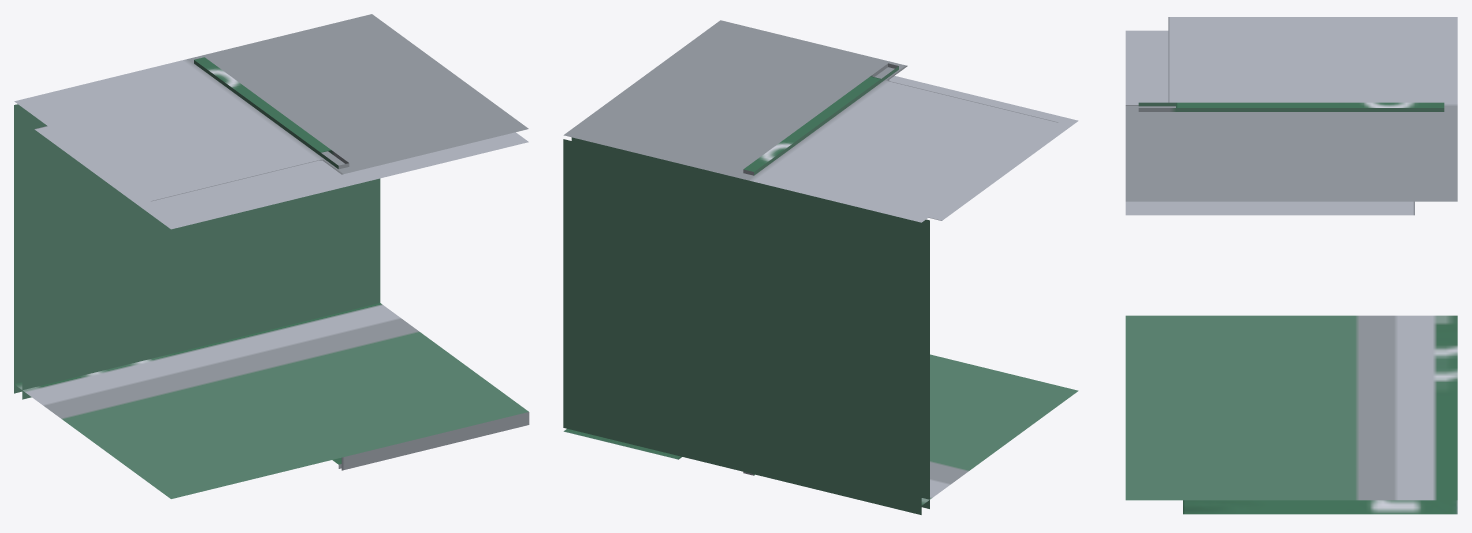
Rendered from section-1.obj.
3 renders of one model, left to right at view 1: azimuth 30°, elevation 25°; view 2: azimuth 150°, elevation 25°; view 3: azimuth 270°, elevation 25°, orthographic. The views are drawn at different scales.
Bounding box in the file's own units: 1 × 0.8147 × 0.788.
